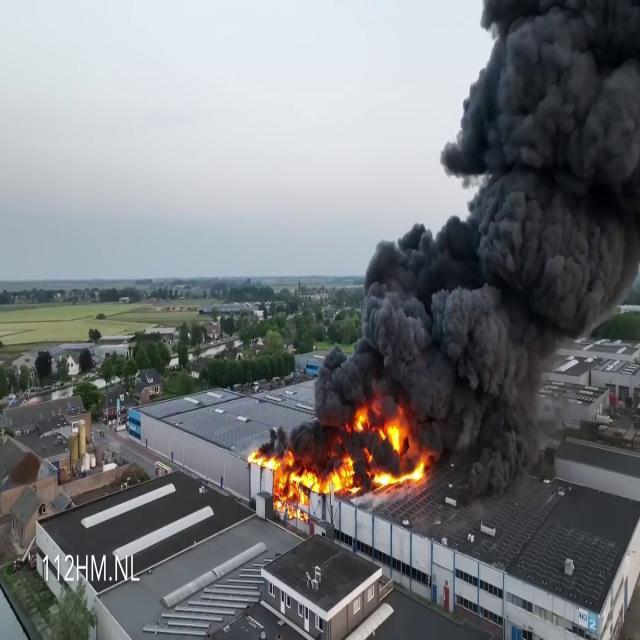Fire: (252, 403, 424, 511)
Smoke: (318, 0, 640, 468)
